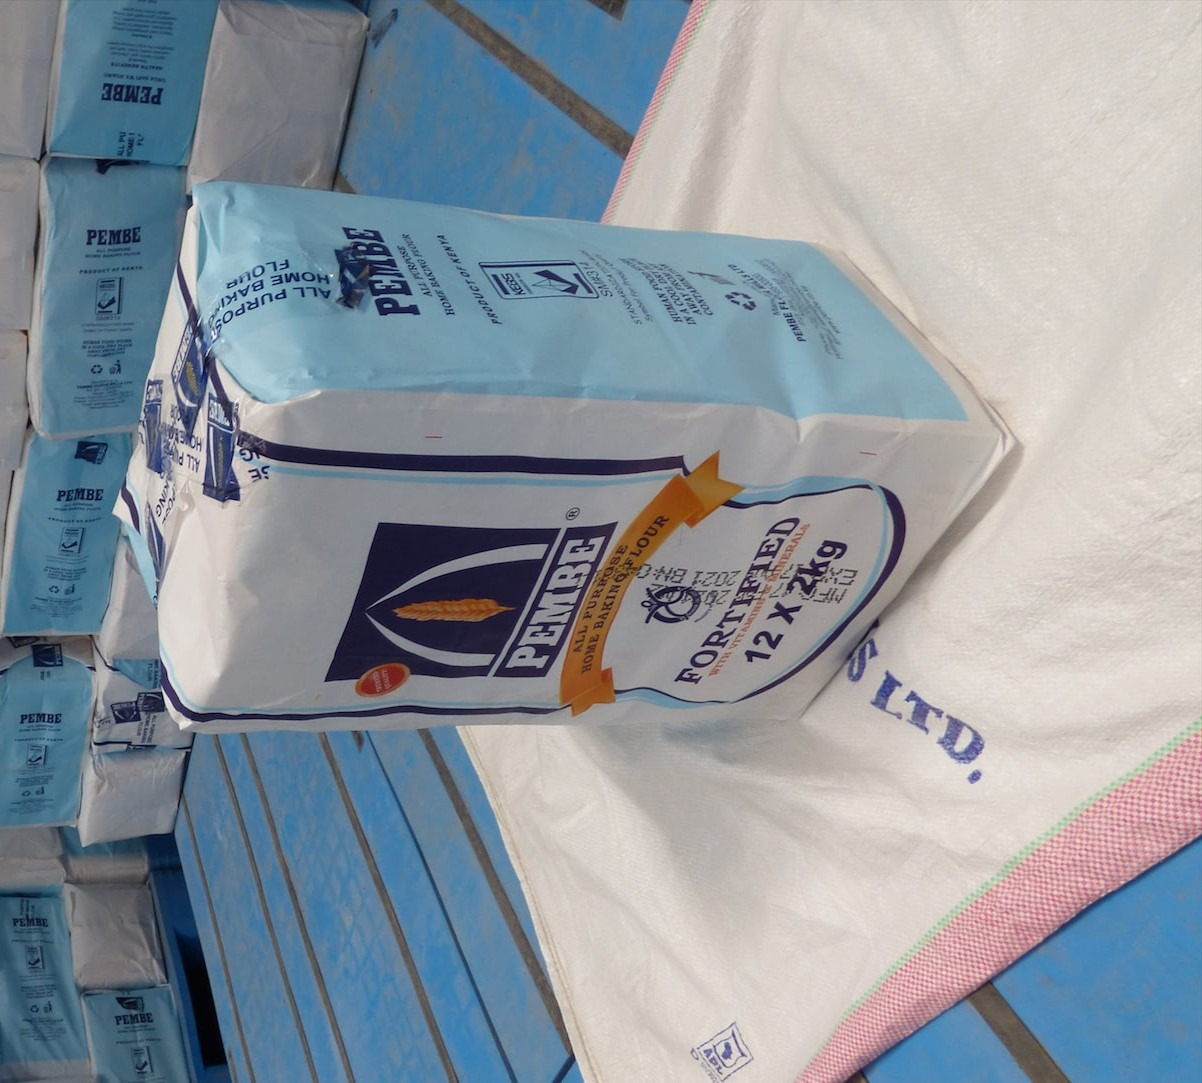wheat_flour_blue_label: (111, 172, 1016, 721)
